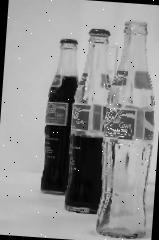glass: (35, 16, 159, 240)
